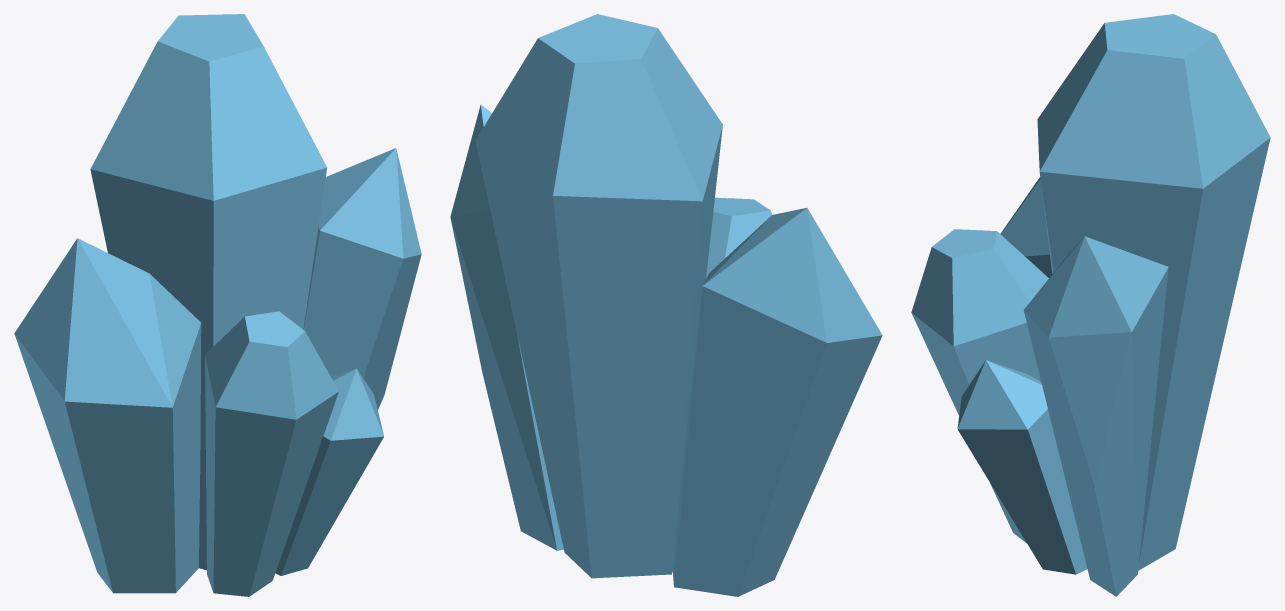
File: DiamondC.fbx
3 views of the same model, side by side, from view 1: azimuth 30°, elevation 25°; view 2: azimuth 150°, elevation 25°; view 3: azimuth 270°, elevation 25° (orthographic). The views are drawn at different scales.
Parts seen in each view (by area): view 1: DiamondC; view 2: DiamondC; view 3: DiamondC.
Boxes of the visible parts, bbox=[...] form: DiamondC: bbox=[14, 14, 421, 596]; DiamondC: bbox=[450, 14, 882, 596]; DiamondC: bbox=[911, 14, 1270, 596].
Bounding box in the file's own units: 30.77 × 40.63 × 25.77.
